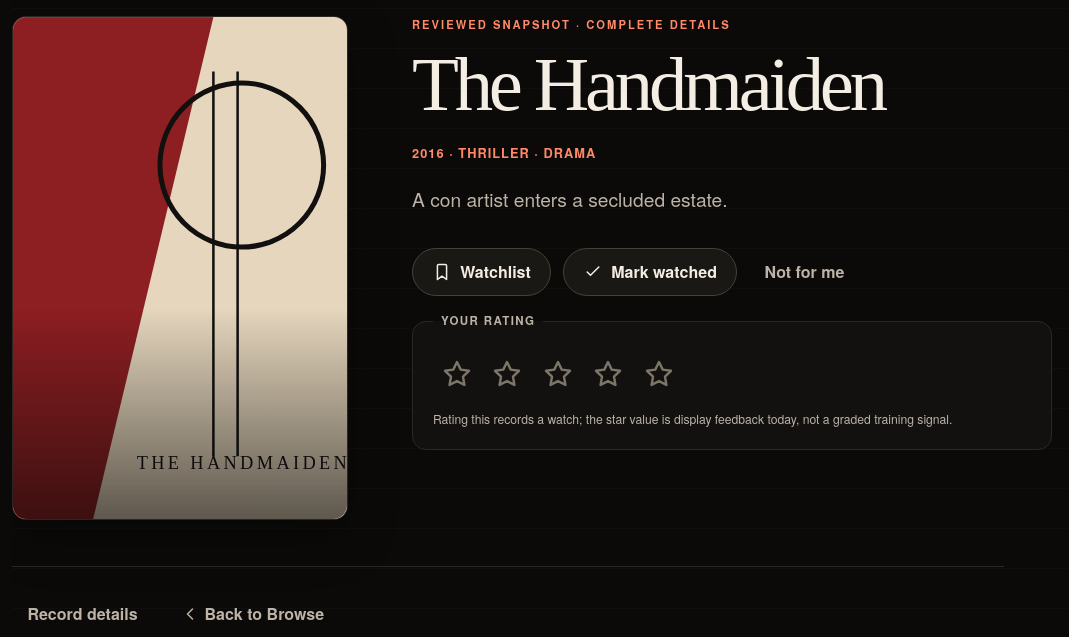
it: canonical state controls › reports a conflicting revision as a conflict, not a generic failure
Click the button "Watchlist".
click(482, 272)  # box [412,248,551,296]
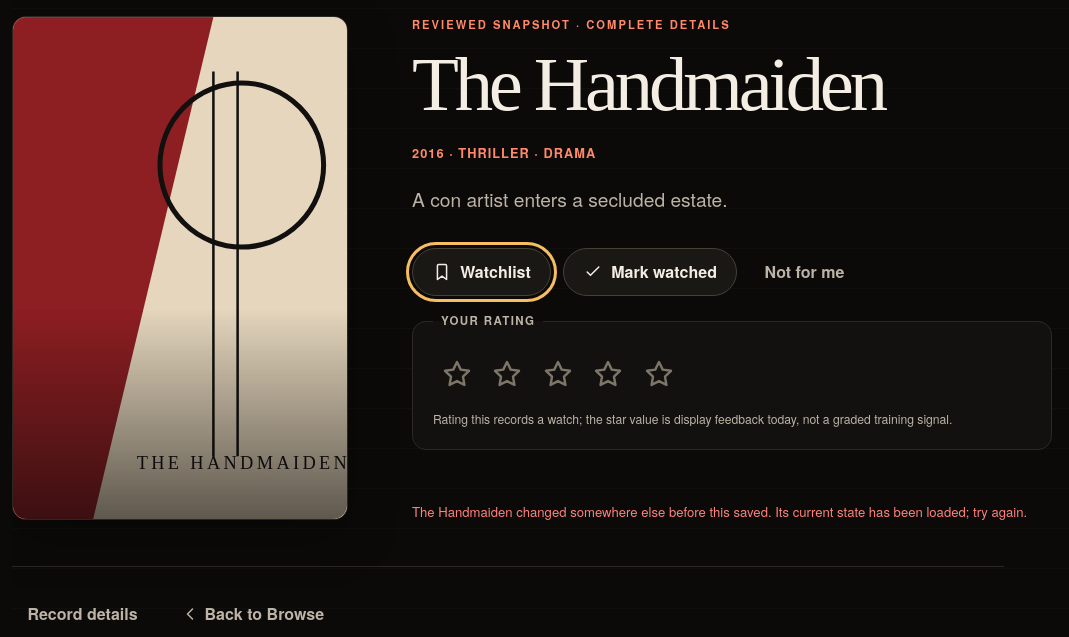
Now the 2nd message shows "changed somewhere else before this saved", box [412,502,1027,520]
